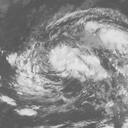cyclone: (15, 22, 120, 104)
